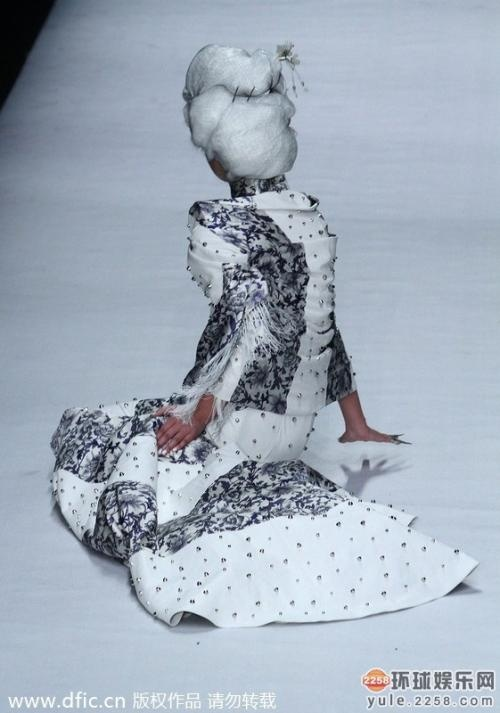falling: (58, 26, 442, 530)
